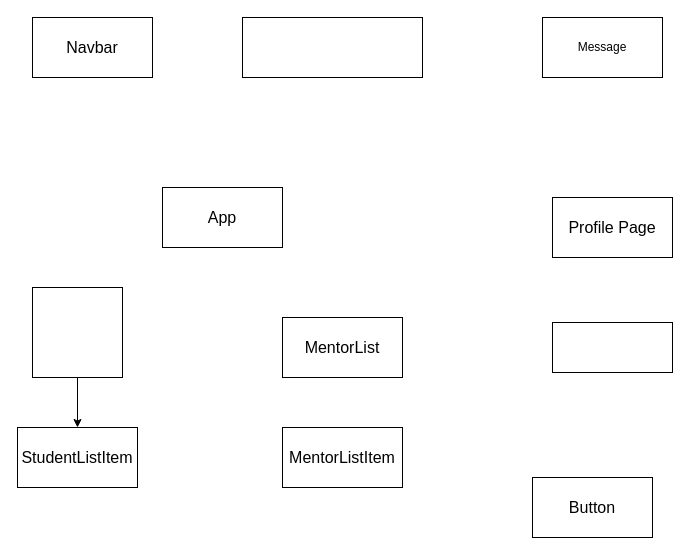
This 690x555 diagram has some shape labels left out. The centre of each missing label's shape, as x and y in pixels:
"Form" belongs at point 612,347.
"Login/Logout/Register" belongs at point 332,47.
"StudentList" belongs at point 77,332.
